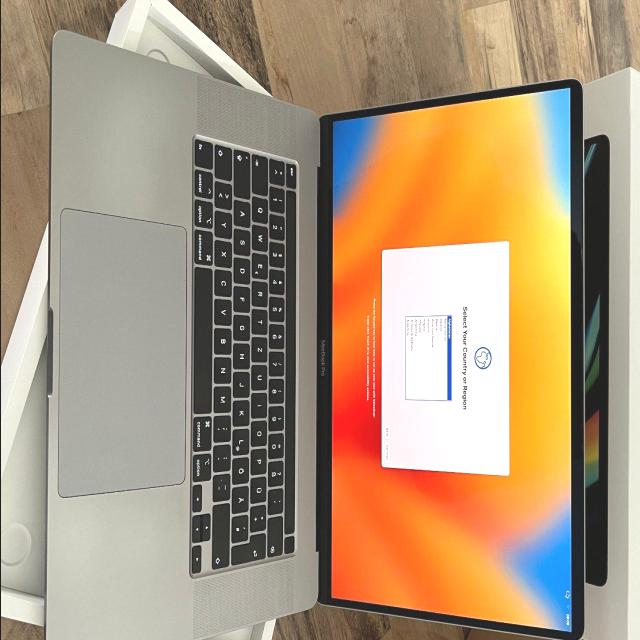0: (270, 432, 286, 458)
1: (271, 185, 287, 211)
2: (271, 213, 287, 239)
3: (270, 240, 286, 266)
4: (270, 267, 286, 293)
5: (270, 295, 286, 321)
6: (270, 322, 286, 348)
7: (270, 349, 286, 375)
8: (269, 377, 285, 403)
9: (270, 404, 286, 430)
a: (235, 198, 252, 226)
accent: (269, 487, 285, 513)
ae: (233, 484, 250, 512)
alt-left: (195, 198, 215, 228)
altgr-right: (193, 450, 213, 480)
b: (215, 325, 233, 353)
c: (216, 267, 234, 295)
caret: (270, 158, 286, 184)
comma: (215, 413, 233, 440)
d: (235, 255, 252, 282)
del: (269, 514, 285, 554)
e: (253, 251, 269, 277)
enter: (232, 532, 268, 564)
f: (235, 285, 252, 311)
g: (235, 313, 252, 339)
h: (234, 341, 252, 368)
hash: (233, 512, 250, 541)
i: (253, 391, 269, 417)
j: (234, 370, 252, 396)
k: (234, 398, 252, 424)
keyboard: (188, 132, 296, 584)
l: (233, 427, 251, 453)
less: (216, 180, 234, 208)
m: (215, 384, 233, 412)
minus: (214, 472, 232, 500)
n: (215, 355, 233, 382)
o: (253, 419, 269, 445)
oe: (233, 455, 251, 483)
p: (252, 446, 268, 472)
plus: (251, 503, 268, 529)
point: (215, 442, 233, 470)
q: (253, 194, 270, 222)
r: (253, 279, 269, 305)
s: (235, 227, 252, 253)
shift-left: (216, 143, 234, 179)
shift-lock: (235, 149, 252, 198)
shift-right: (213, 501, 231, 567)
space: (194, 266, 214, 412)
ss: (270, 459, 286, 485)
strg-left: (195, 169, 215, 199)
t: (253, 307, 269, 333)
tab: (253, 154, 269, 194)
u: (252, 363, 269, 389)
ue: (252, 475, 268, 501)
v: (216, 297, 234, 325)
w: (253, 222, 270, 249)
x: (216, 239, 234, 266)
y: (216, 209, 234, 237)
z: (253, 335, 270, 361)
